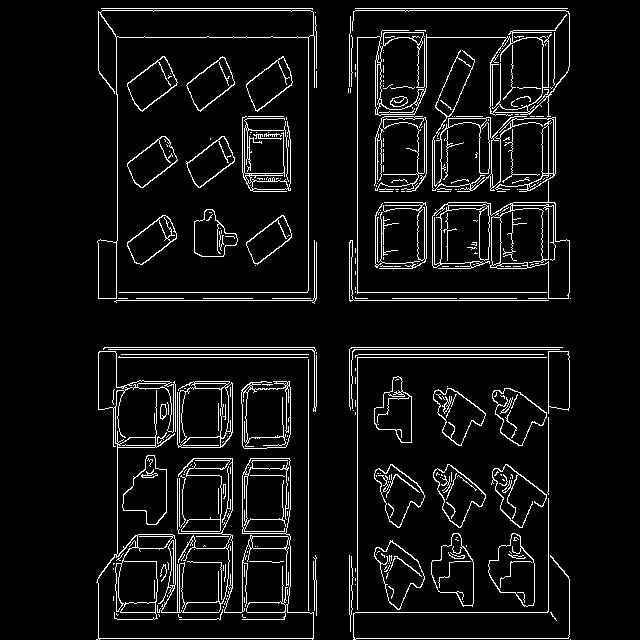Battery: (128, 56, 178, 111), (435, 50, 475, 118), (186, 56, 235, 111), (128, 136, 178, 188), (246, 56, 292, 111), (128, 215, 178, 265), (188, 136, 235, 188), (246, 215, 292, 265)
Pump: (490, 30, 560, 115), (111, 535, 176, 620), (490, 116, 554, 191), (179, 535, 232, 620), (491, 202, 555, 269), (376, 31, 426, 114), (178, 458, 232, 534), (114, 380, 174, 448), (242, 535, 290, 620), (434, 118, 489, 191), (375, 116, 426, 191), (434, 202, 489, 269), (242, 459, 290, 534), (242, 116, 289, 192), (375, 202, 426, 269), (179, 381, 231, 446), (241, 382, 291, 448)
Regulator: (194, 209, 238, 258)
Sensor: (491, 464, 548, 528), (374, 540, 424, 610), (489, 532, 535, 608), (434, 464, 486, 528), (374, 464, 424, 528), (431, 532, 474, 606), (492, 390, 548, 446), (124, 455, 168, 525), (434, 388, 486, 446), (374, 378, 412, 444)
